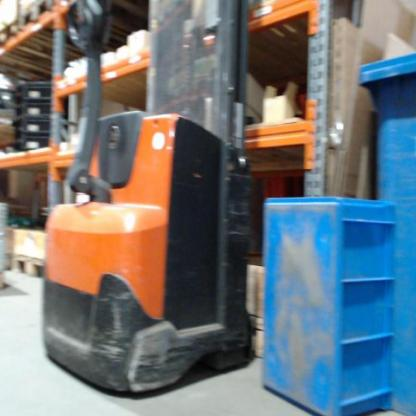pallet: (15, 3, 59, 40), (10, 249, 47, 280)
pallet_truck: (41, 2, 256, 400)
small_load_carrier: (20, 80, 60, 102), (19, 130, 58, 150), (20, 99, 60, 118), (20, 117, 59, 133)
